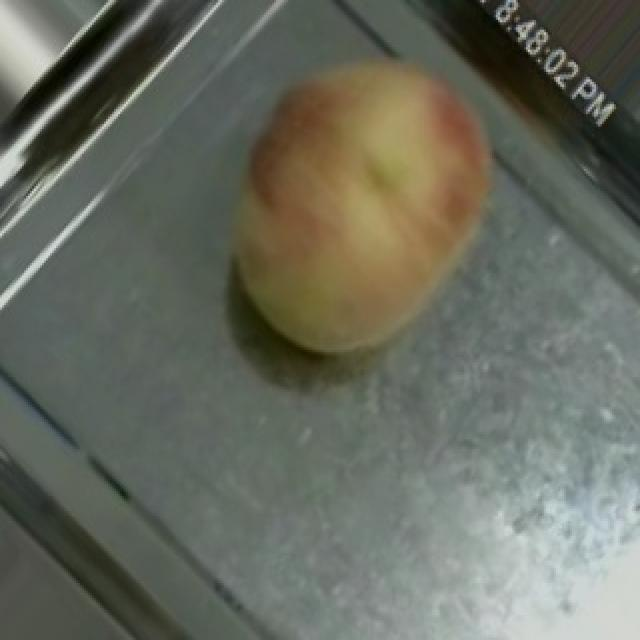Fruit: (194, 3, 552, 429)
